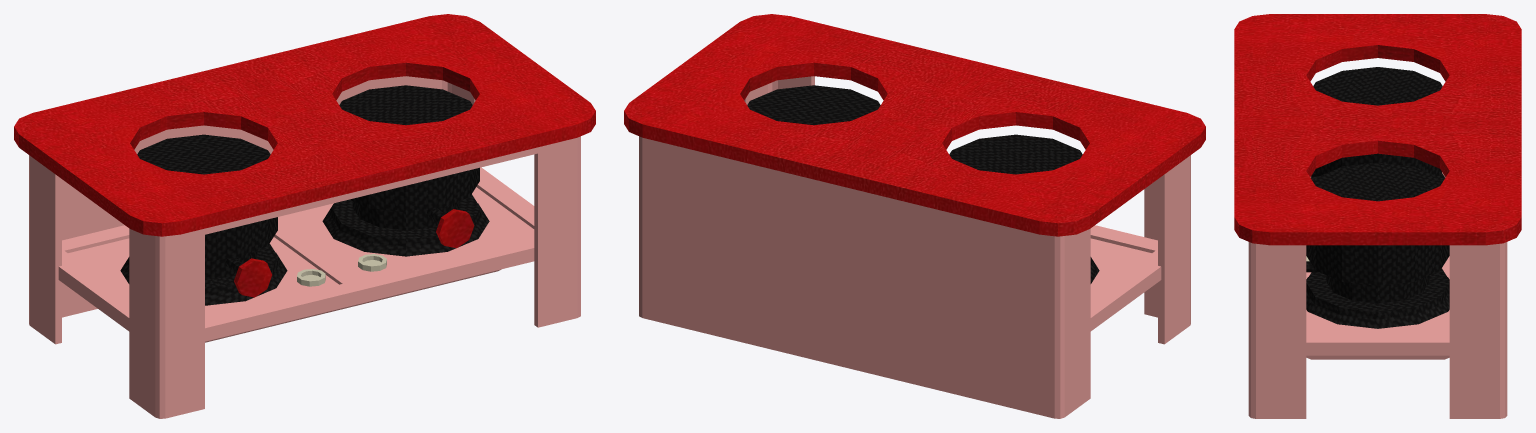
Rendered from Kompor_Minyak.fbx.
The picture shows the model from 3 angles, left to right: view 1: azimuth 30°, elevation 25°; view 2: azimuth 150°, elevation 25°; view 3: azimuth 270°, elevation 25°; orthographic projection. The views are drawn at different scales.
Parts seen in each view (by area): view 1: Cylinder; view 2: Cylinder; view 3: Cylinder.
Part boxes in pixels (left/top/right/bottom): Cylinder: left=14, top=14, right=595, bottom=418; Cylinder: left=624, top=14, right=1205, bottom=418; Cylinder: left=1234, top=14, right=1521, bottom=418.
Bounding box in the file's own units: 360 × 150 × 200.
4 materials, 3 textured.
